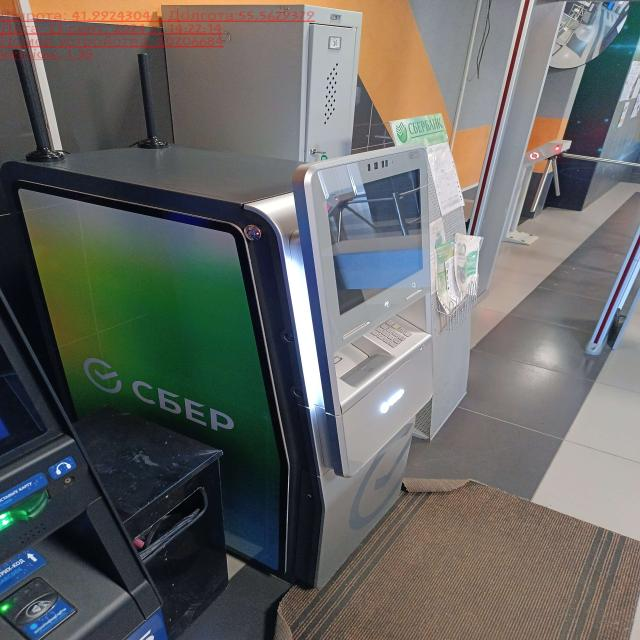bank: (0, 142, 441, 584)
